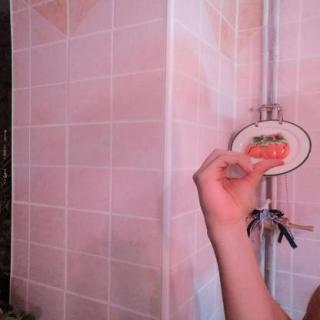WAW: (182, 142, 295, 228)
